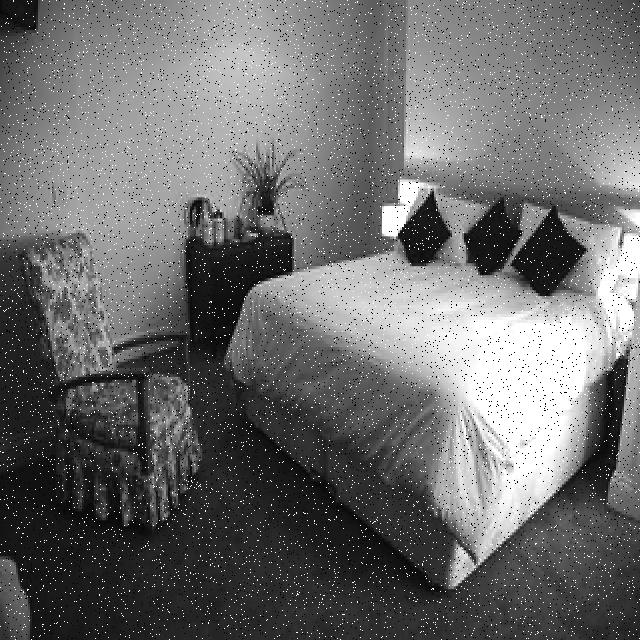bed: (242, 192, 634, 513)
